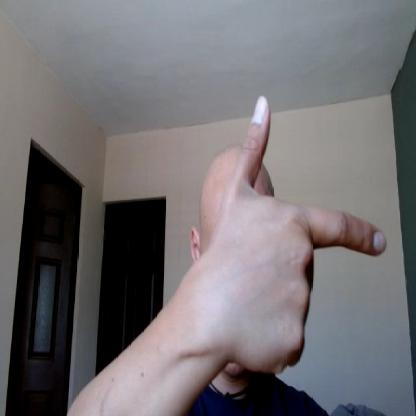G: (214, 98, 387, 372)
